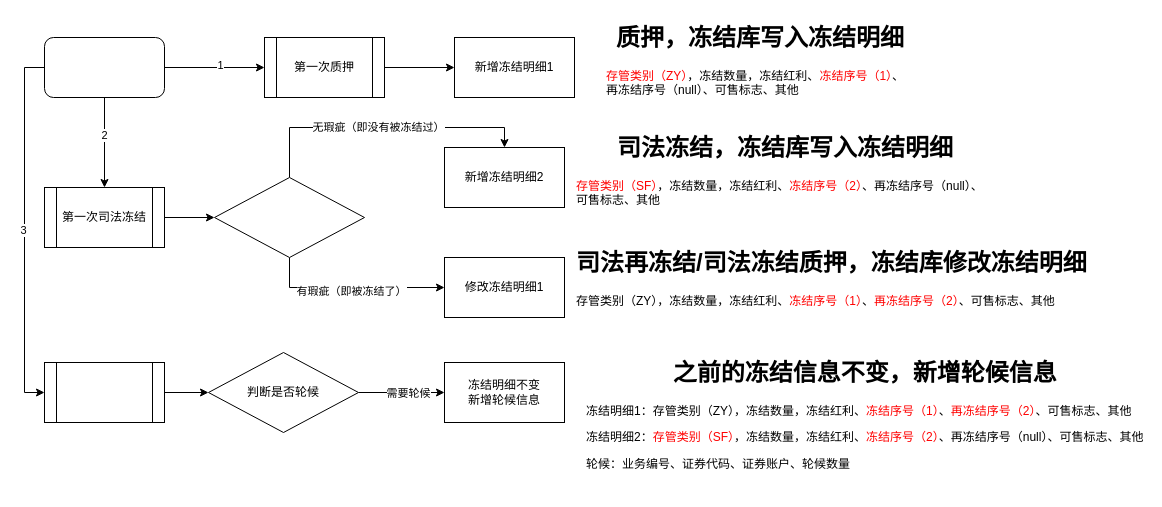
Image size: 1162x507. Some labels were removed from this diagram. Each missing label, with the centre of its shape:
判断股份是否有瑕疵: point 289,217
原始股份: point 104,67
第二次司法冻结: point 104,392
